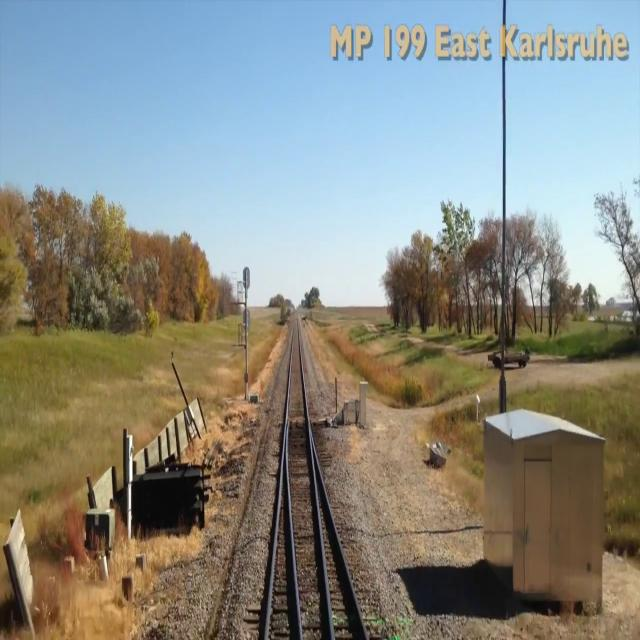rail-track: (287, 315, 329, 639), (317, 472, 363, 639), (268, 460, 297, 639)
